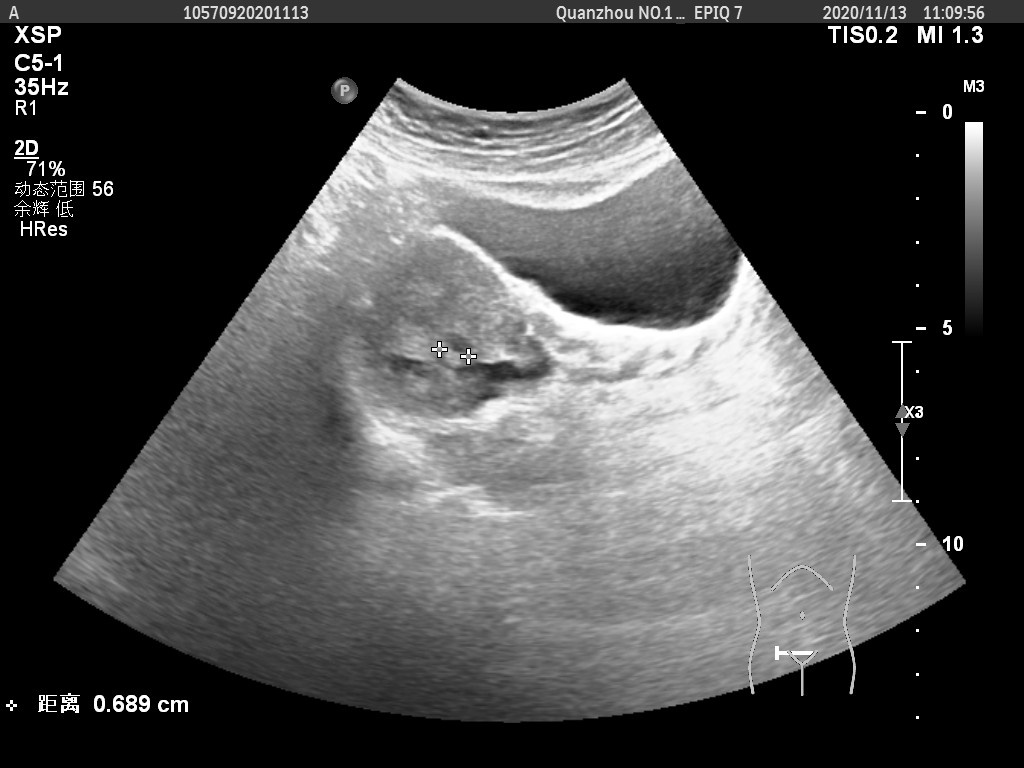肌瘤: (442, 334, 473, 355)
